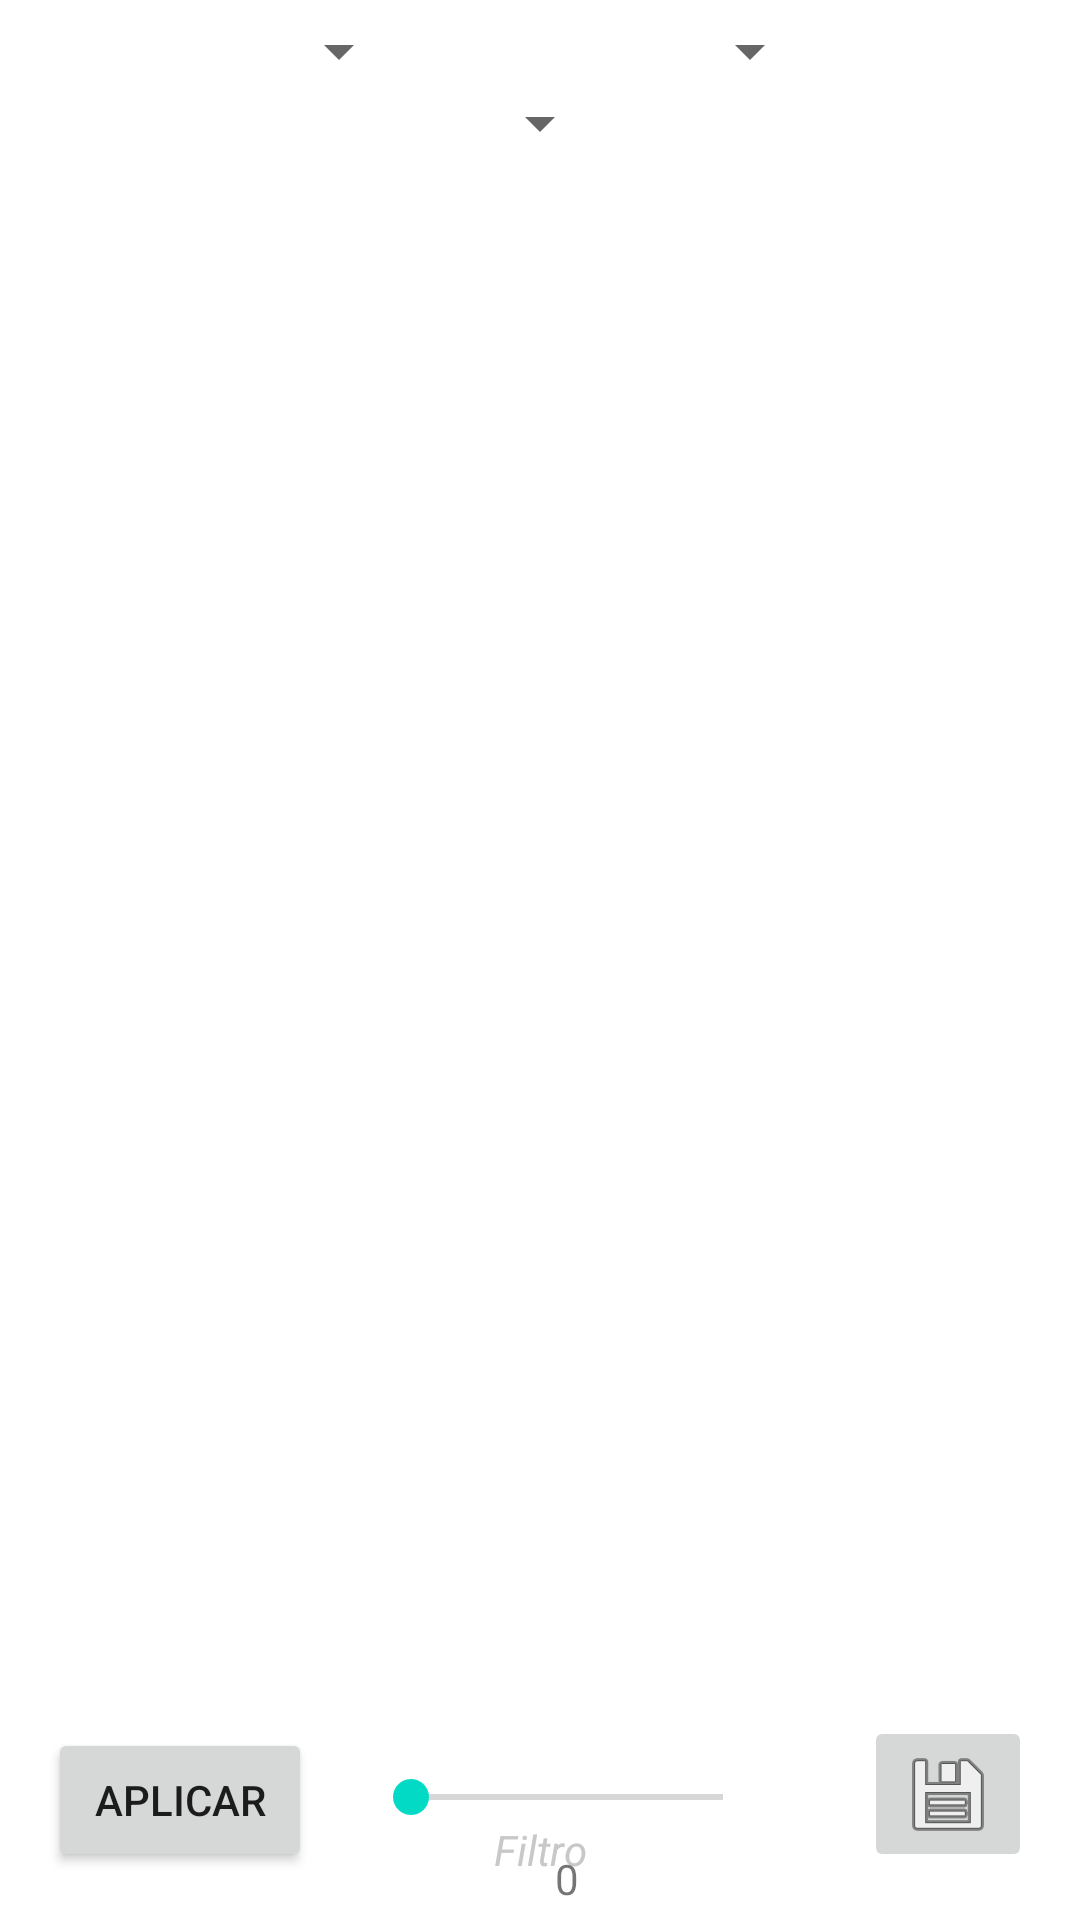

Screen size 1080px×1920px. Icon name, then its box in pixels as bbox(x1, y1, x2, y2):
save: bbox(876, 1734, 1020, 1854)
